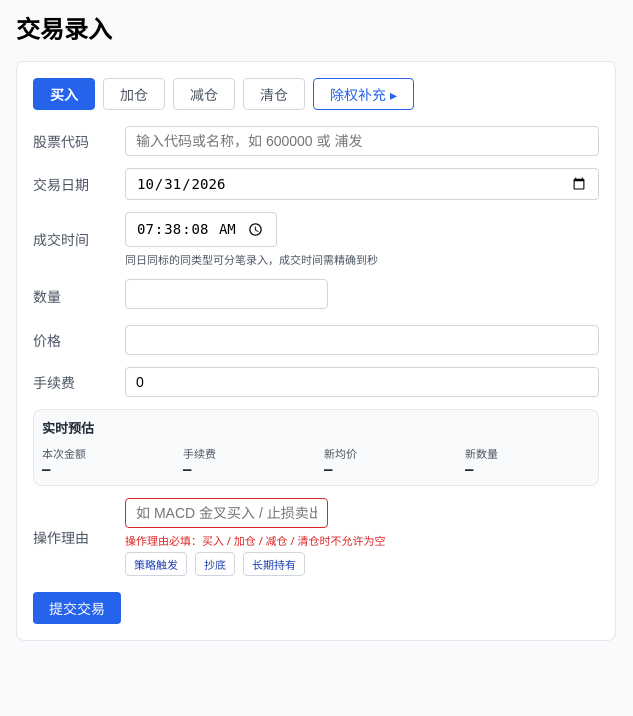
Test case: T68 ⑥ · 除权补充（理由自动填 + 不可编辑） › 除权补充不要求用户填理由（无红框、无必填提示）
This screenshot has width=633, height=716.
What coordinates should you click on to do the following:
click the tab "除权补充 ▸"
I would click on:
 (363, 94)
Its box is [313,78,414,110].
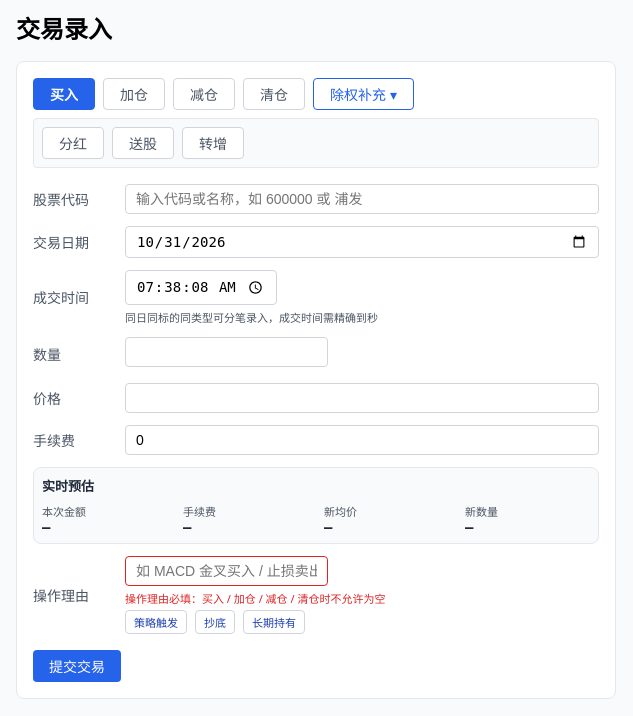
What coordinates should you click on to do the following:
click the button with test id "trade-tab-transfer"
I would click on:
 (213, 143)
Its box is [182,127,244,159].
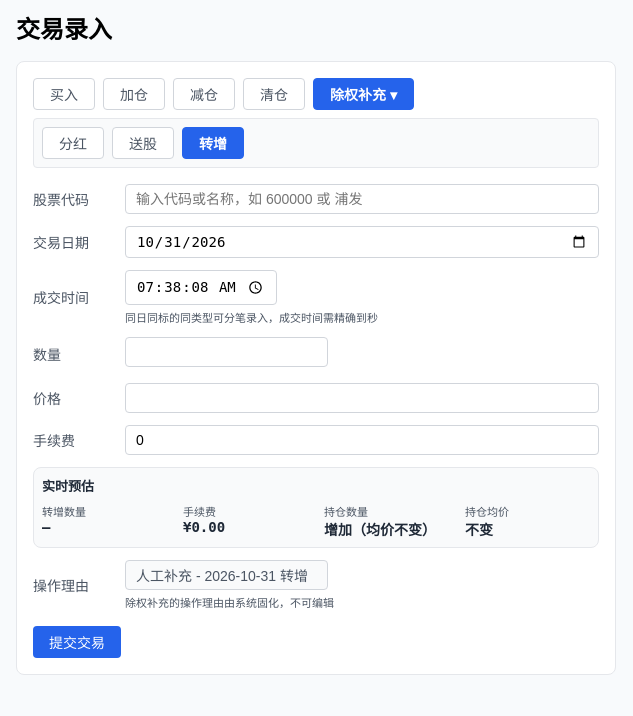
Expected: the text with test id "trade-reason-hint" shows "由系统固化", [125,595,334,610]
